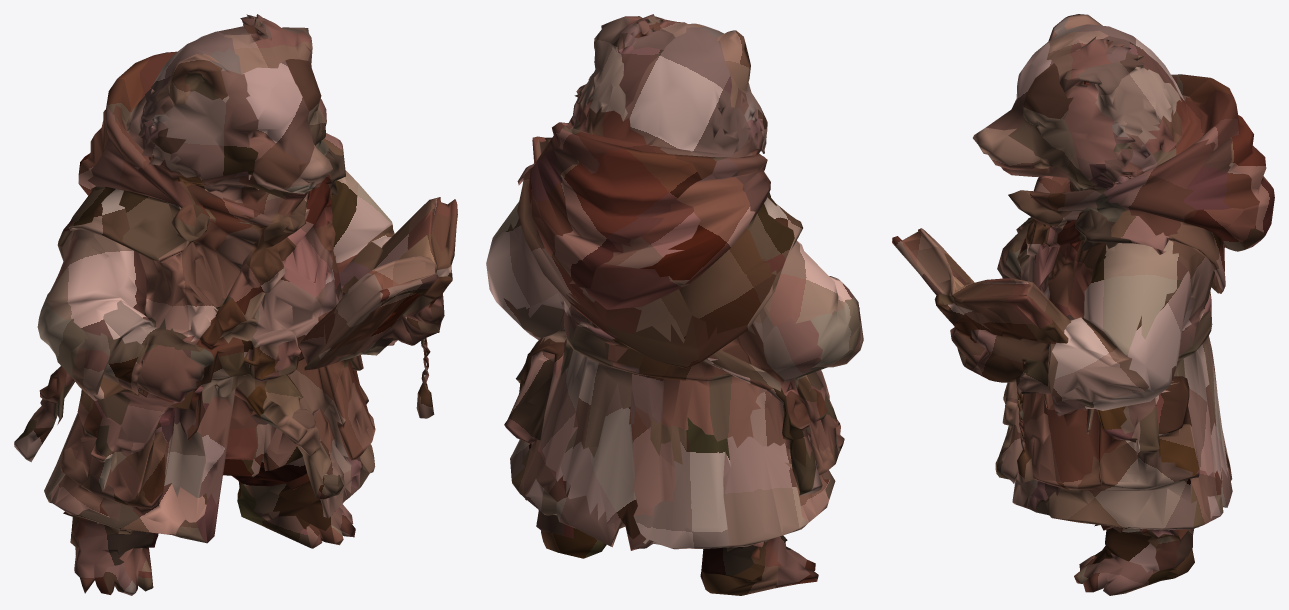
The model's file is claude.glb.
The picture shows the model from 3 angles, left to right: view 1: azimuth 30°, elevation 25°; view 2: azimuth 150°, elevation 25°; view 3: azimuth 270°, elevation 25°; orthographic projection. The views are drawn at different scales.
Visible parts, largest first — view 1: Claude_BrowserExport; view 2: Claude_BrowserExport; view 3: Claude_BrowserExport.
Boxes of the visible parts, left/top/right/bottom form: Claude_BrowserExport: left=14, top=14, right=457, bottom=595; Claude_BrowserExport: left=486, top=14, right=863, bottom=595; Claude_BrowserExport: left=892, top=14, right=1274, bottom=595.
Bounding box in the file's own units: 0.6992 × 0.9784 × 0.6606.
Materials: 1 (1 with a texture image).
